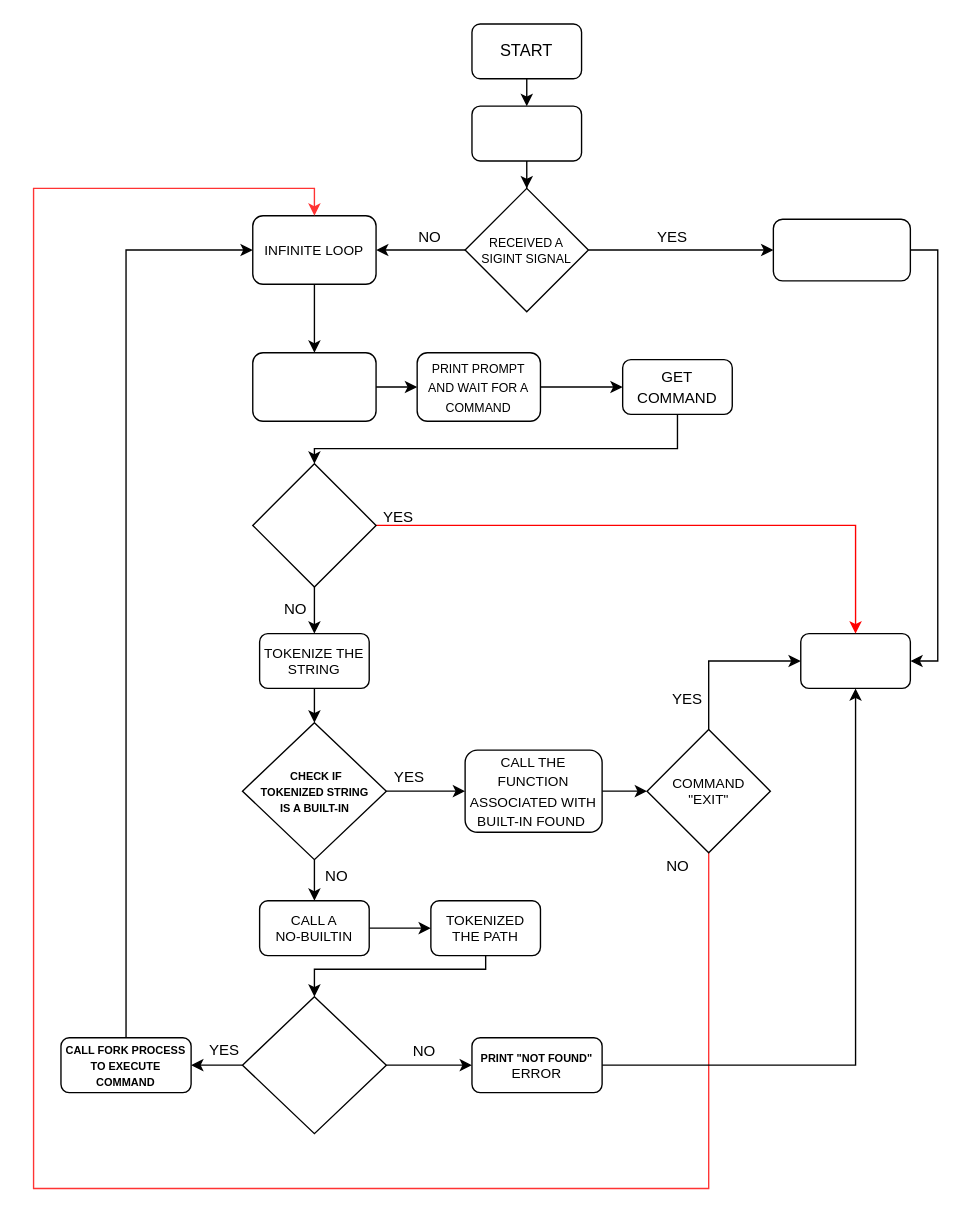
The diagram is 973 pixels wide and 1223 high, and some of its shapes have lost their labels. Each missing label, with the centre of its shape:
"CALL FUNCTION TO THE INTERRUPTION SIGNAL" goes at (841,249).
"CHECK IF COMMAND IS CALLED BY COMPLETE PATH" goes at (313,1064).
"DECLARE VARIABLES" goes at (526,133).
"END" goes at (854,660).
"GET LINE ERROR" goes at (313,524).
"SUM 1 TO PROCCESS COUNTER" goes at (313,386).
